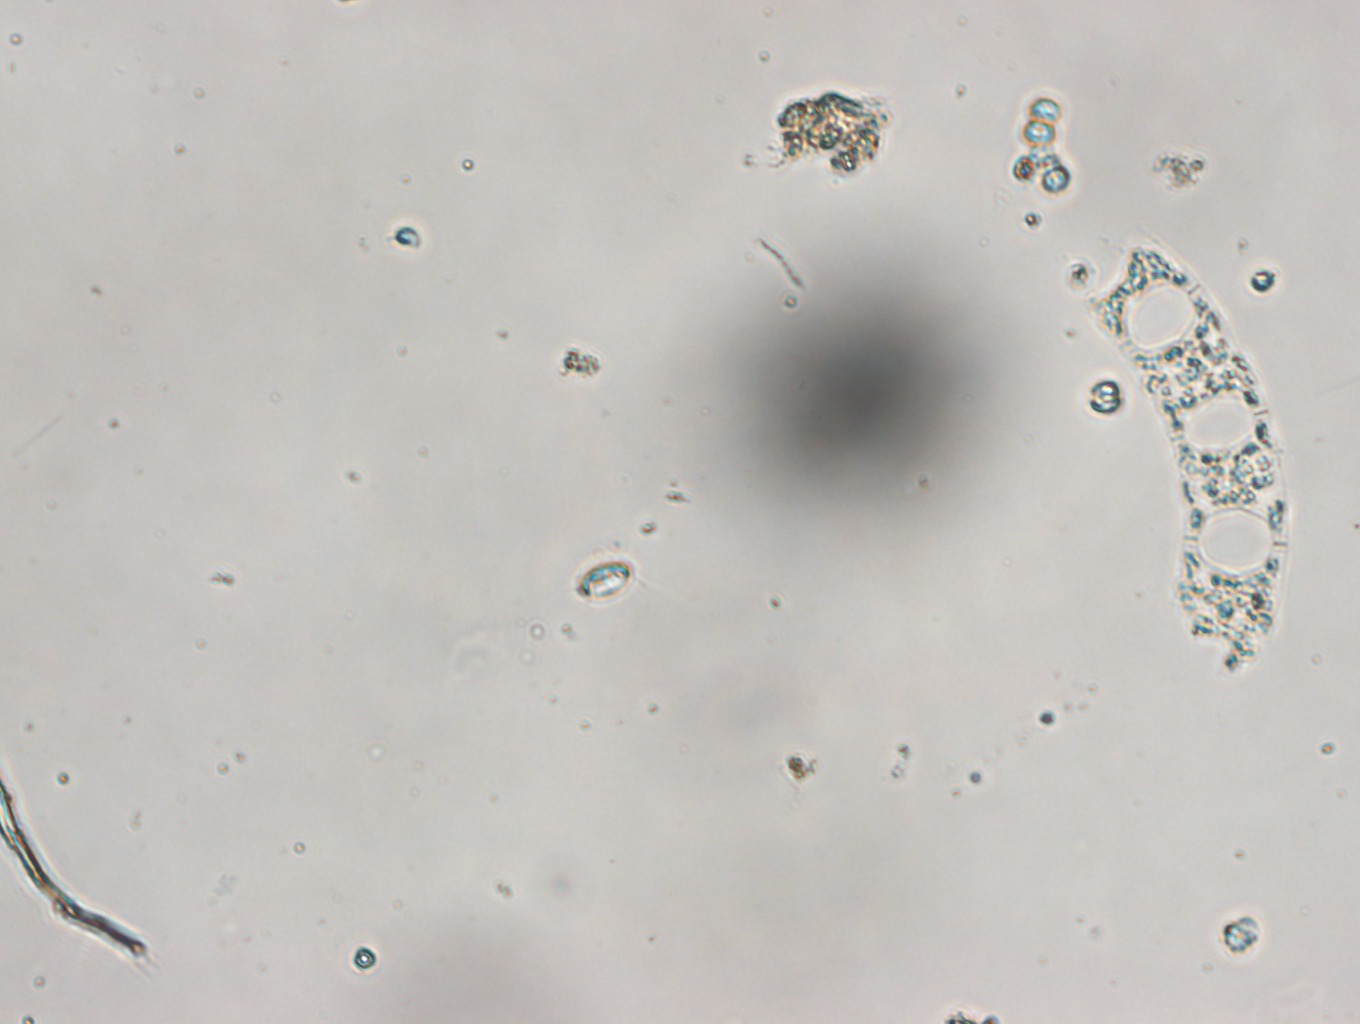eucampia: (1084, 216, 1298, 696)
